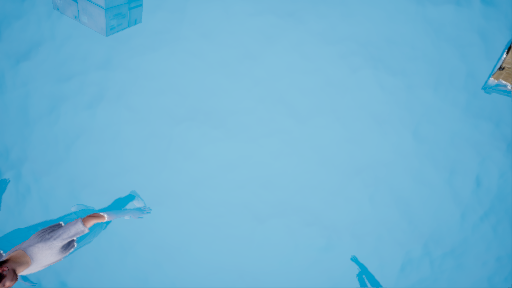person: (1, 199, 157, 282)
